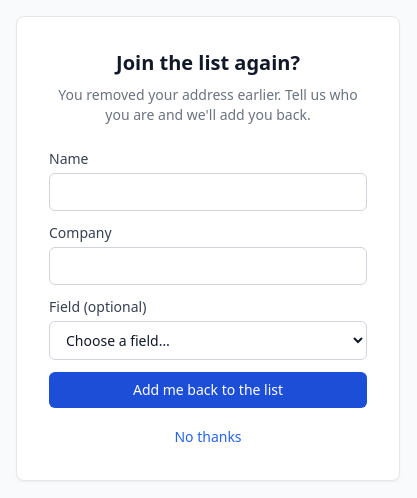
Scenario: EmployerLeadRejoin › posts token, name, company and field, then shows the joined state
Type "Ada" into the field labelled "Name" at (208, 192), box [49,172,367,210]
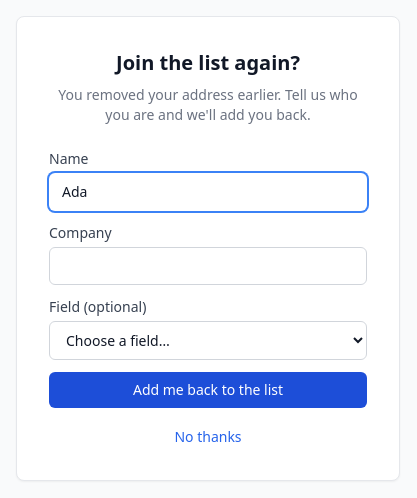
Type "Acme" into the field labelled "Company" at (208, 266), box [49,246,367,284]
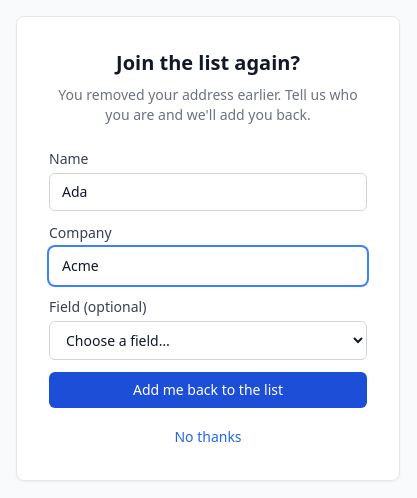
Select "Design" in the dropdown labelled "Field (optional)" at (208, 340), box [49,320,367,360]
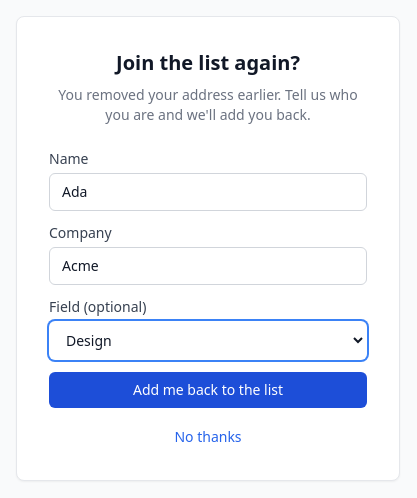
Click the button "Add me back to the list" at (208, 390), box [49,372,367,408]
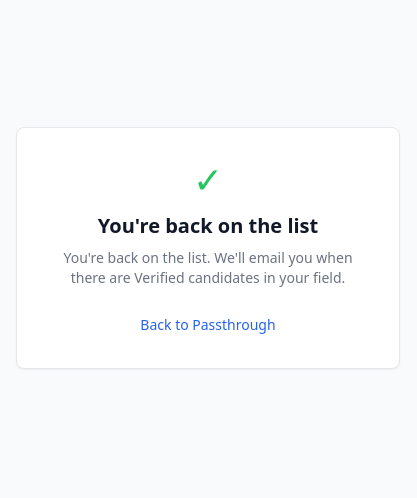
Expected: the heading "You're back on the list" is shown, [98,212,318,239]
